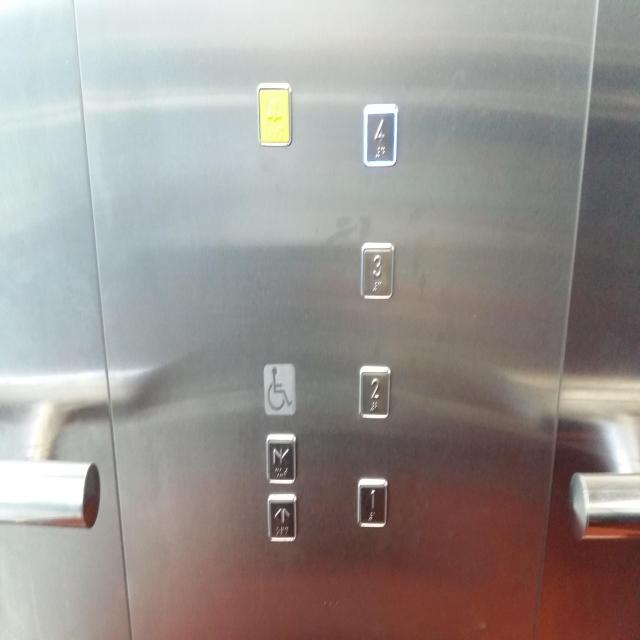1: (356, 476, 388, 531)
2: (358, 364, 392, 420)
3: (360, 241, 395, 301)
4: (363, 102, 398, 167)
CH: (263, 362, 296, 417)
alarm: (256, 81, 292, 148)
close: (265, 433, 296, 484)
open: (266, 493, 296, 543)
